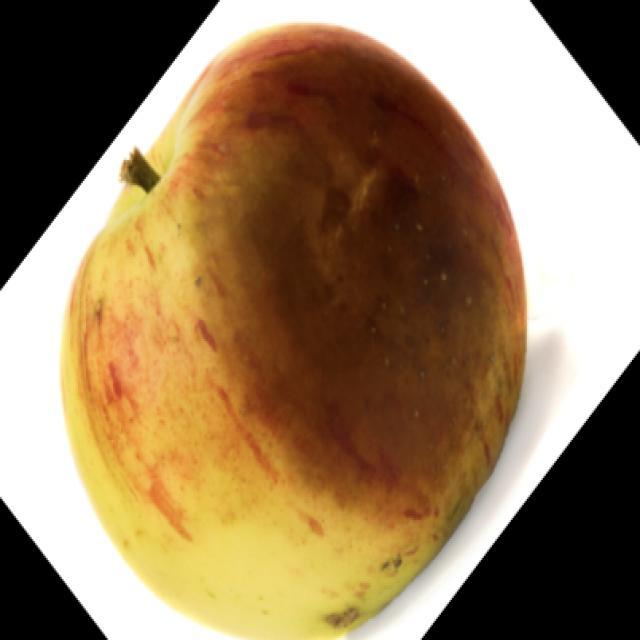Rotten: (79, 68, 534, 622)
